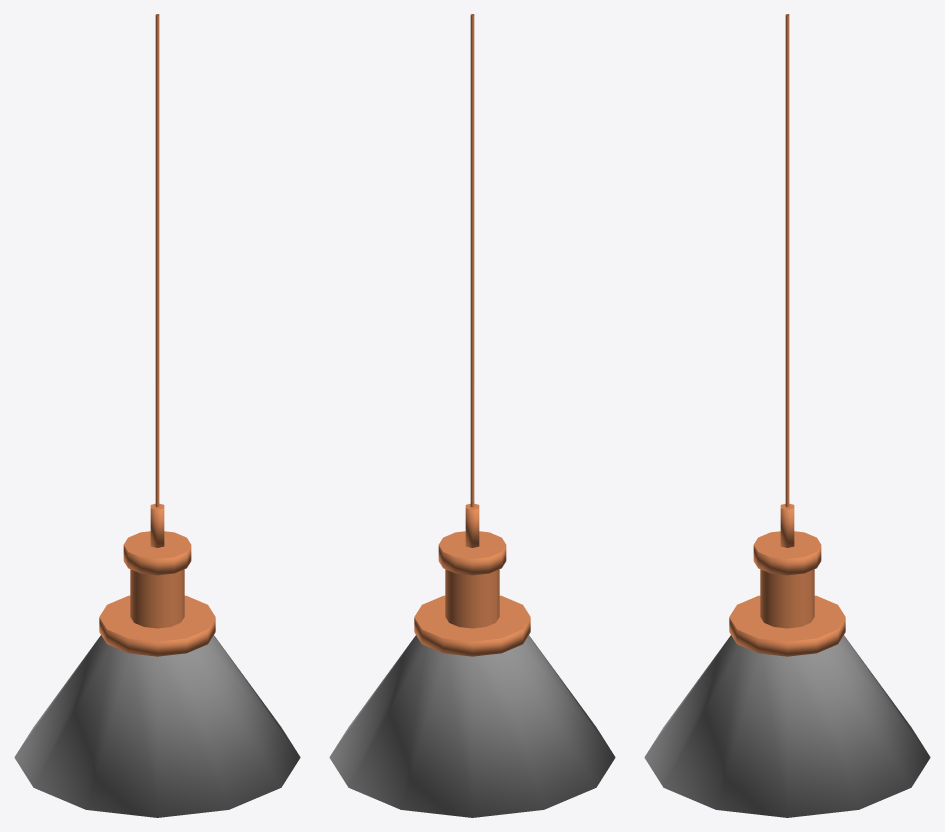
File: Lamp.fbx
3 views of the same model, side by side, from view 1: azimuth 30°, elevation 25°; view 2: azimuth 150°, elevation 25°; view 3: azimuth 270°, elevation 25° (orthographic).
Parts seen in each view (by area): view 1: Lamp; view 2: Lamp; view 3: Lamp.
Boxes of the visible parts, x1,y1,x2,y2 form: Lamp: (14, 14, 300, 817); Lamp: (329, 14, 615, 817); Lamp: (644, 14, 930, 817).
Size of the model in its own units: 0.8751 by 0.8751 by 2.58.
